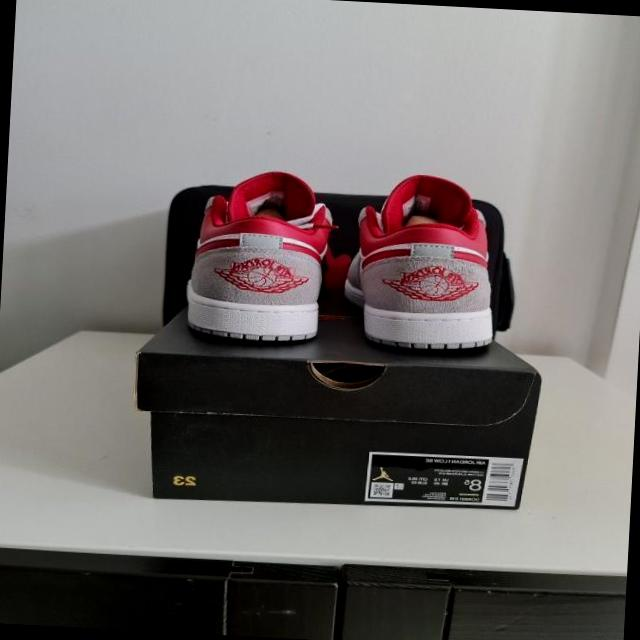nike_original_jordan: (154, 168, 336, 354), (334, 172, 503, 360)
